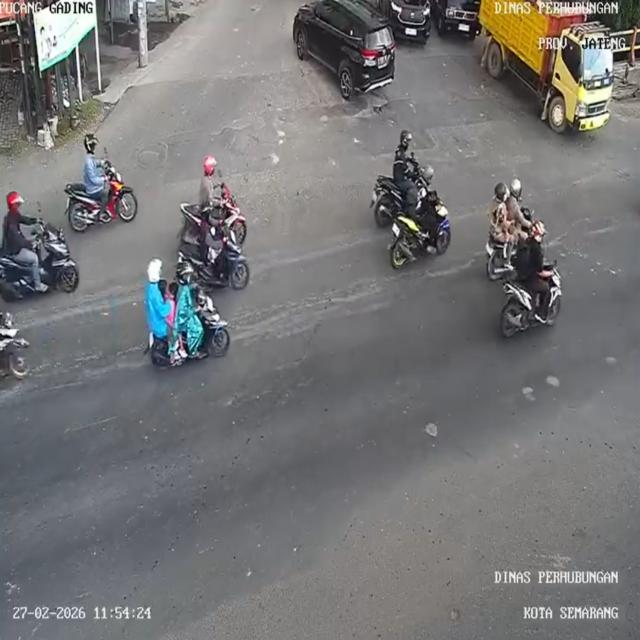motorcycle: (144, 304, 230, 369), (0, 234, 86, 294), (59, 181, 148, 229), (498, 277, 564, 341), (387, 210, 457, 266), (176, 240, 252, 290), (489, 216, 550, 275), (180, 201, 254, 245), (370, 177, 406, 220)
person: (2, 182, 40, 266), (514, 222, 554, 290), (78, 134, 113, 197), (408, 164, 439, 221), (142, 259, 166, 328), (484, 184, 510, 247), (390, 129, 417, 189), (178, 262, 198, 326), (508, 176, 530, 234), (197, 158, 222, 204), (197, 201, 217, 258), (168, 280, 178, 318), (157, 276, 168, 309)
rider_region: (143, 257, 232, 371), (0, 181, 81, 296), (66, 132, 141, 231), (500, 222, 563, 338), (389, 166, 453, 268), (180, 157, 250, 244), (178, 208, 251, 289), (371, 130, 423, 222), (487, 179, 533, 280)
